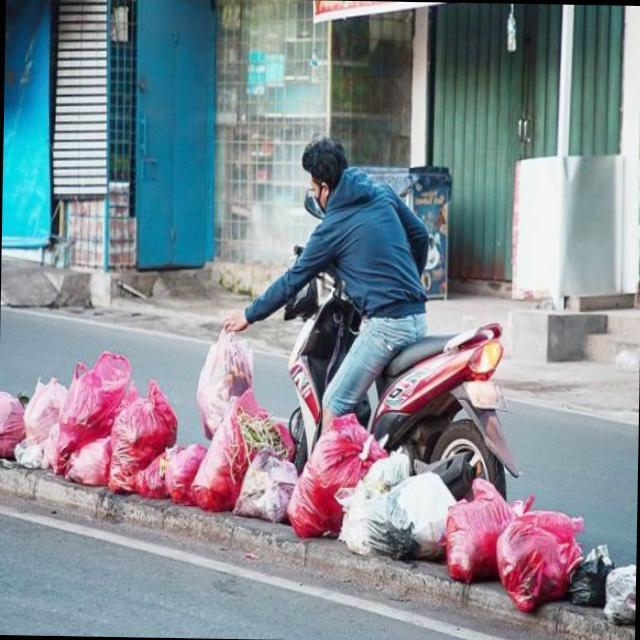garbage: (433, 474, 638, 635), (288, 412, 438, 576), (24, 345, 128, 493), (106, 372, 178, 490), (193, 317, 256, 444), (243, 449, 294, 520), (0, 363, 25, 466), (163, 446, 201, 506)
